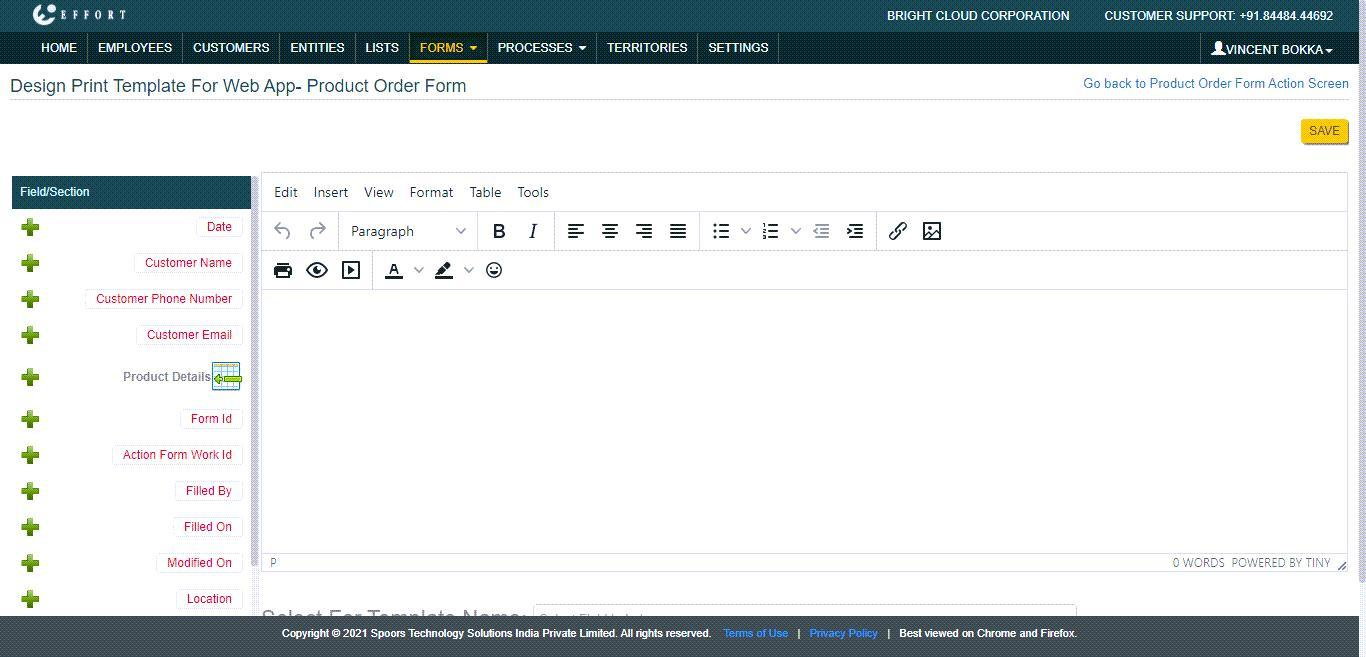button: (597, 34, 699, 65), (89, 32, 183, 65), (184, 34, 281, 64), (280, 33, 356, 65), (698, 35, 779, 64), (357, 34, 411, 65), (37, 32, 88, 63), (1302, 119, 1350, 145)
dropdown: (339, 214, 478, 252), (1202, 35, 1359, 65), (489, 34, 598, 64), (410, 34, 489, 65)
icon: (267, 255, 300, 287), (842, 217, 870, 247), (884, 218, 913, 246), (304, 257, 333, 285), (919, 217, 945, 247), (489, 218, 514, 249), (594, 221, 626, 245), (632, 217, 659, 245), (482, 257, 509, 284), (664, 219, 692, 245), (709, 219, 737, 245), (267, 221, 297, 245), (382, 257, 407, 285), (339, 259, 366, 284), (525, 220, 546, 251), (434, 257, 458, 284), (563, 220, 587, 246), (812, 219, 835, 245), (309, 221, 333, 245), (762, 221, 783, 243), (738, 224, 759, 241), (789, 224, 806, 241)
label: (407, 184, 458, 203), (310, 182, 355, 203), (268, 181, 305, 203), (513, 184, 553, 202), (468, 184, 505, 202), (364, 184, 395, 201)
